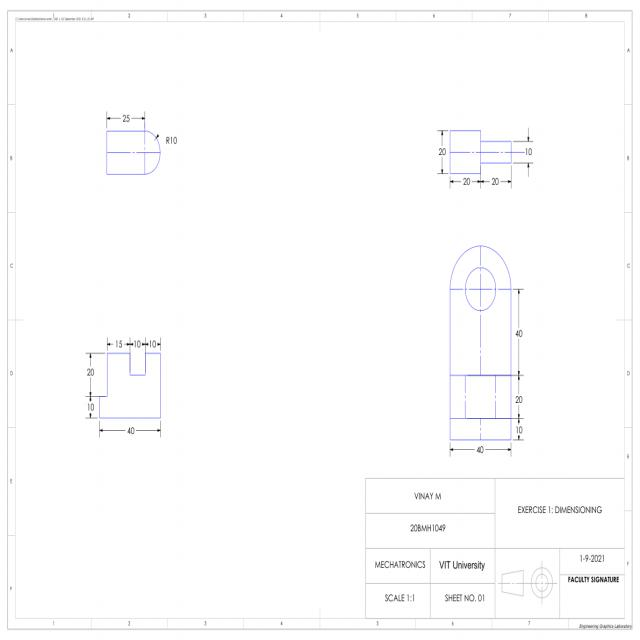Drawings: (443, 241, 528, 462), (80, 328, 166, 439), (431, 122, 537, 194), (96, 106, 182, 176)
